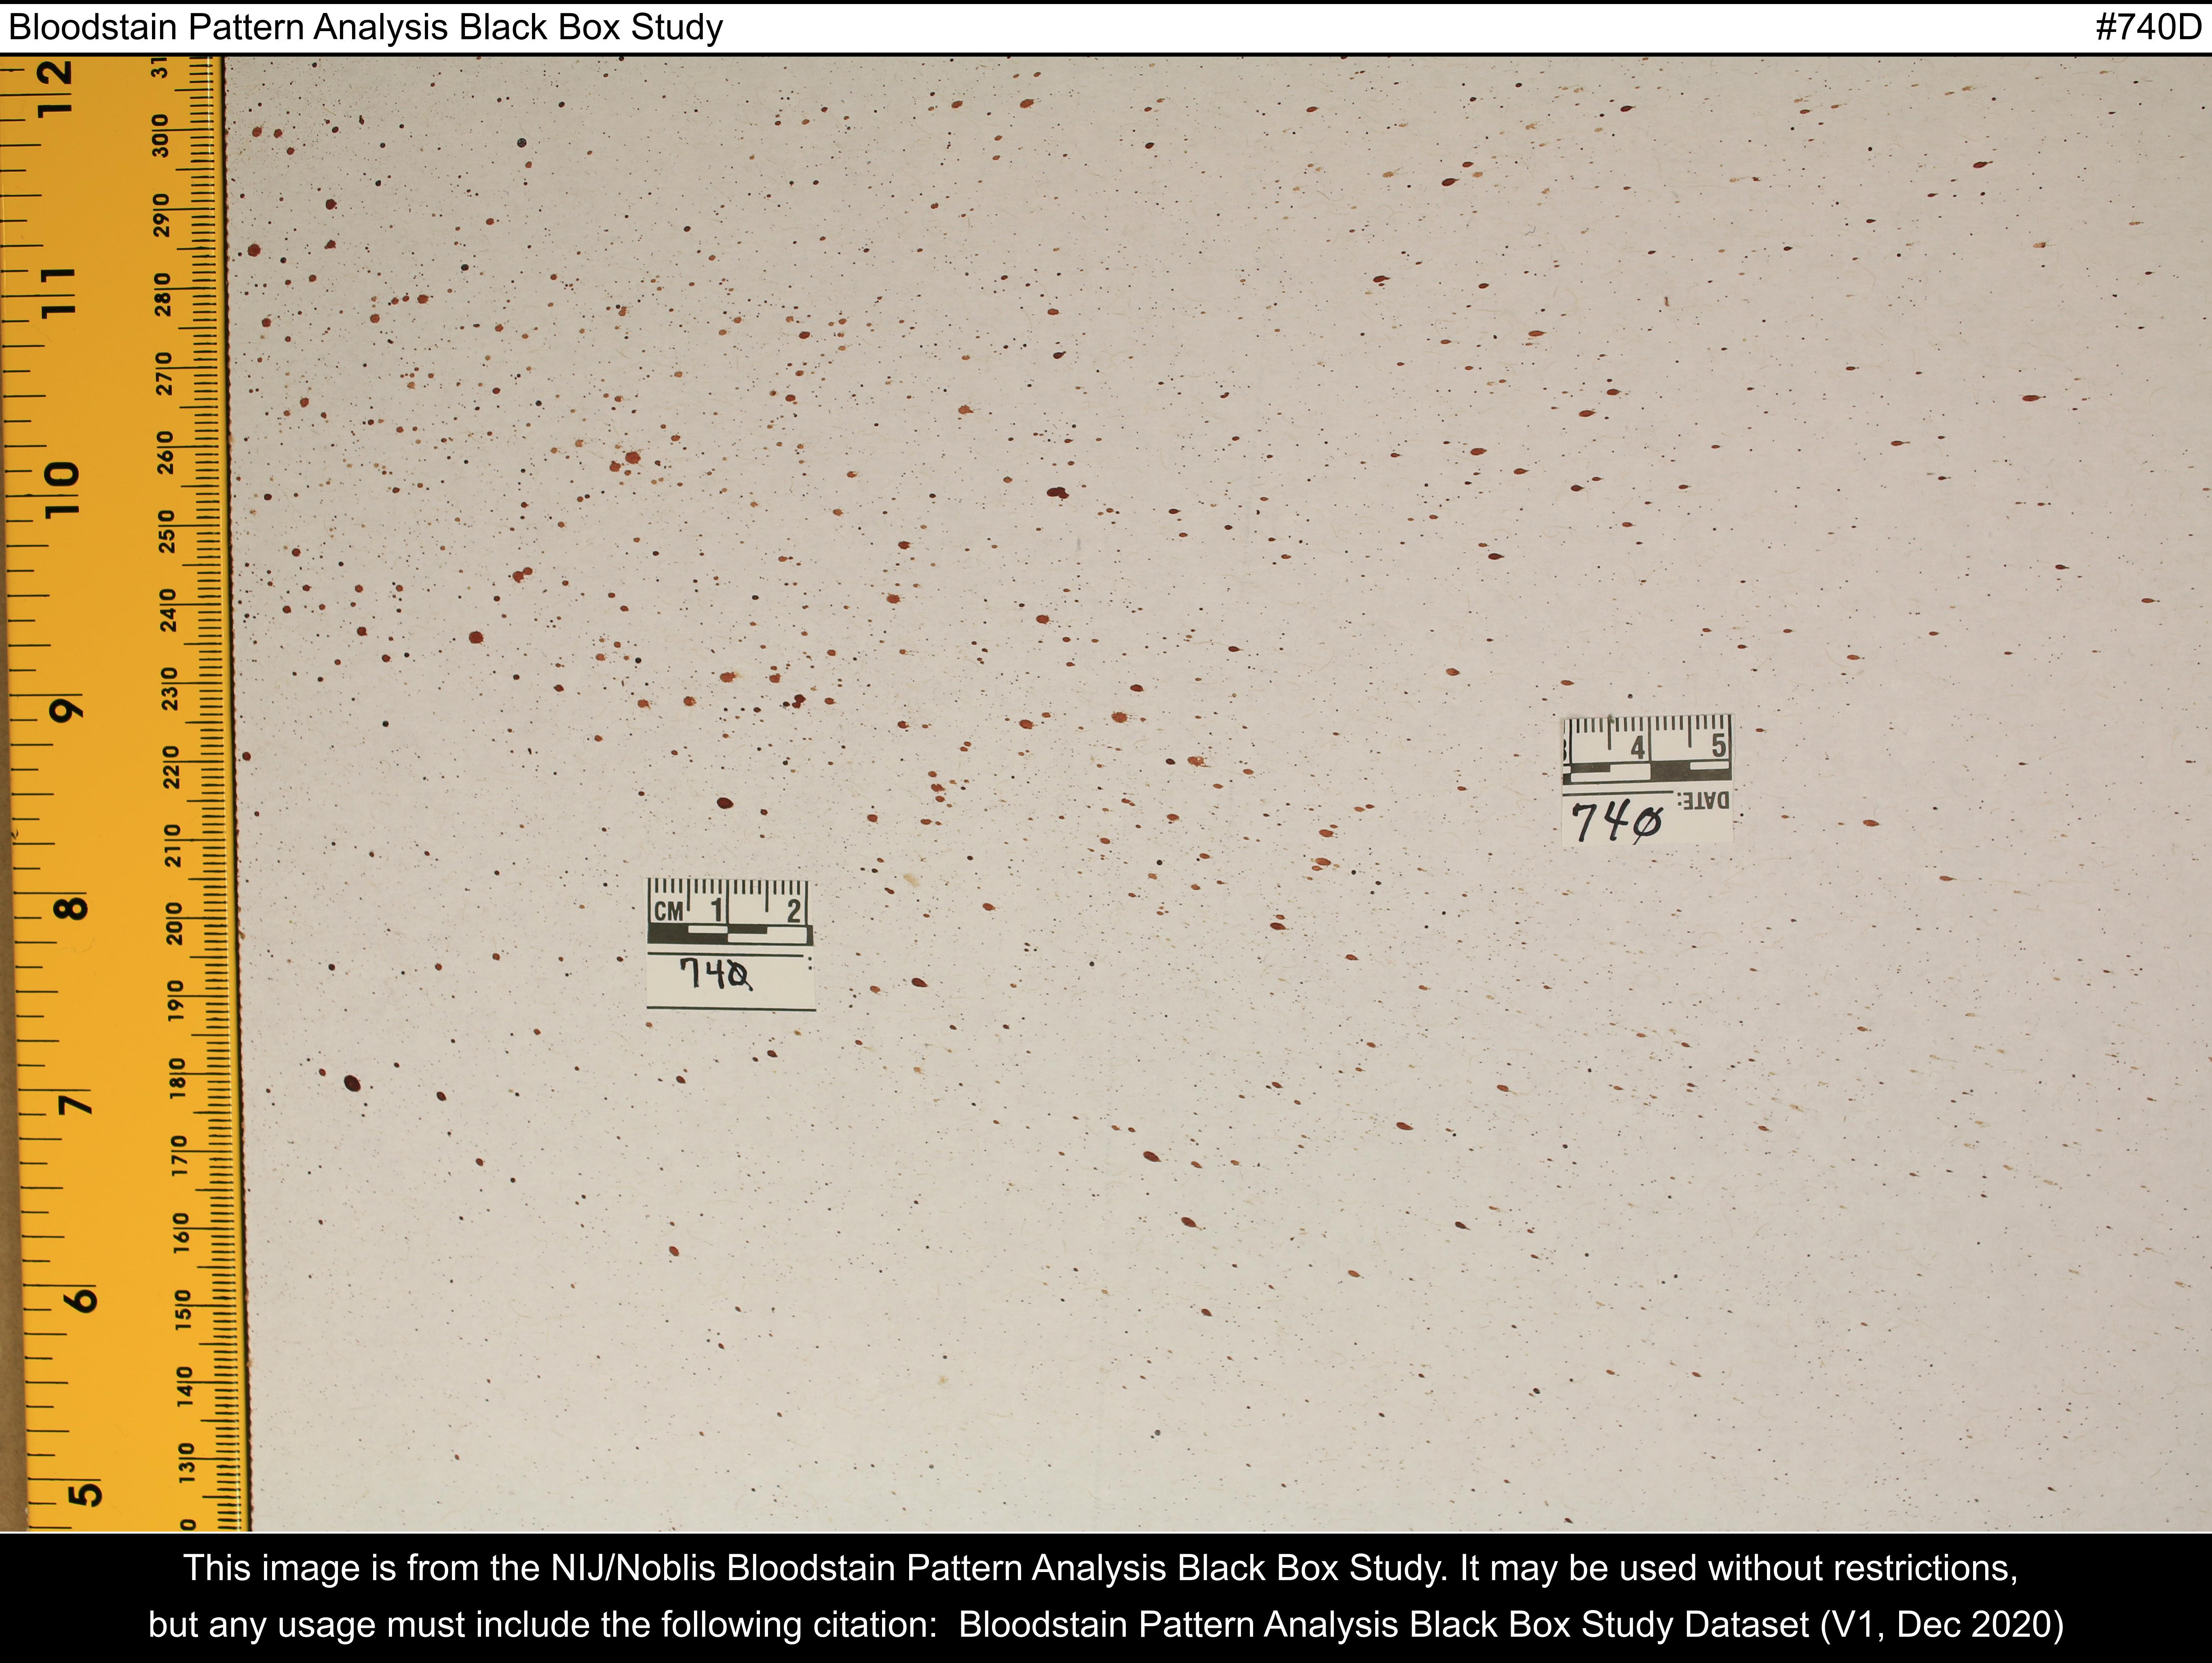Impact: (271, 80, 1543, 849)
